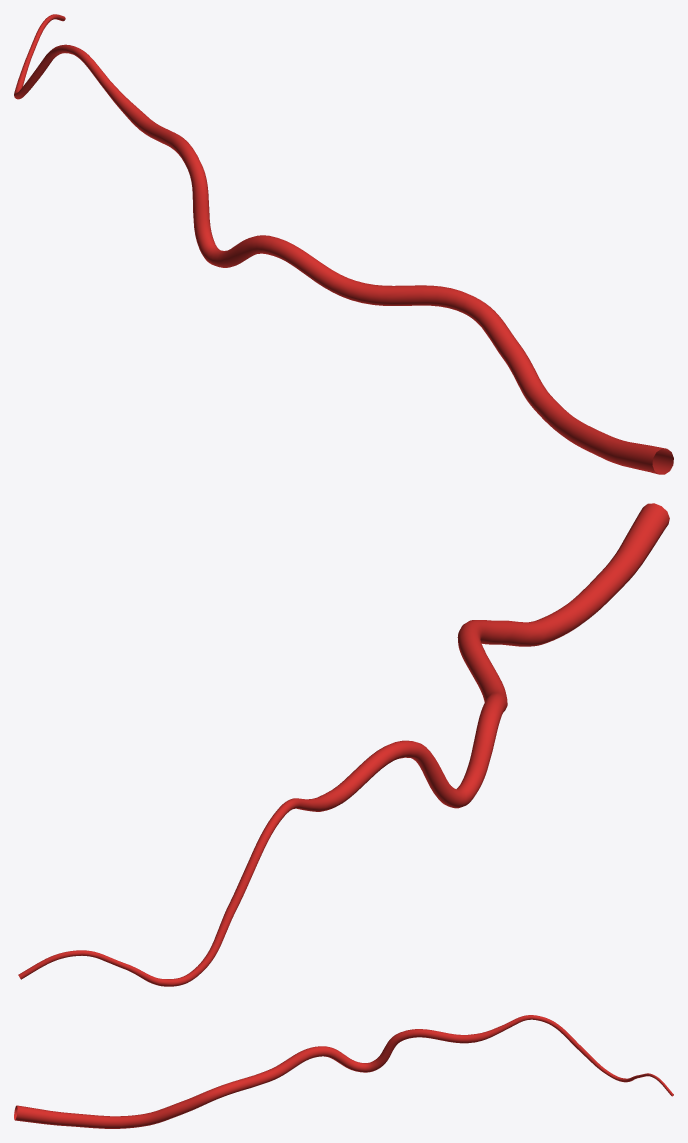
Rendered from circulatorio-medial-occipital-artery-l.glb.
3 views of the same model, one above another, from view 1: azimuth 30°, elevation 25°; view 2: azimuth 150°, elevation 25°; view 3: azimuth 270°, elevation 25° (orthographic). The views are drawn at different scales.
Parts seen in each view (by area): view 1: Medial occipital artery.l; view 2: Medial occipital artery.l; view 3: Medial occipital artery.l.
Boxes of the visible parts, x1,y1,x2,y2 form: Medial occipital artery.l: (14,14,673,474); Medial occipital artery.l: (18,503,669,986); Medial occipital artery.l: (14,1015,673,1128).
Size of the model in its own units: 0.0107 by 0.00933 by 0.0689.
